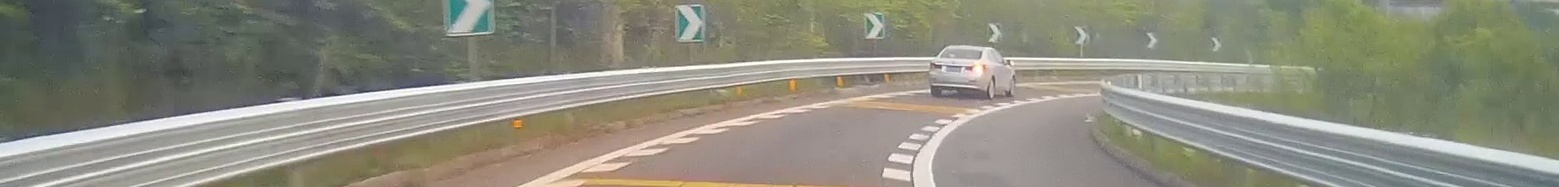L_light: (930, 62, 942, 69)
R_light: (965, 65, 985, 71)
T_light: (960, 49, 969, 52)
day-right: (929, 45, 987, 99)
